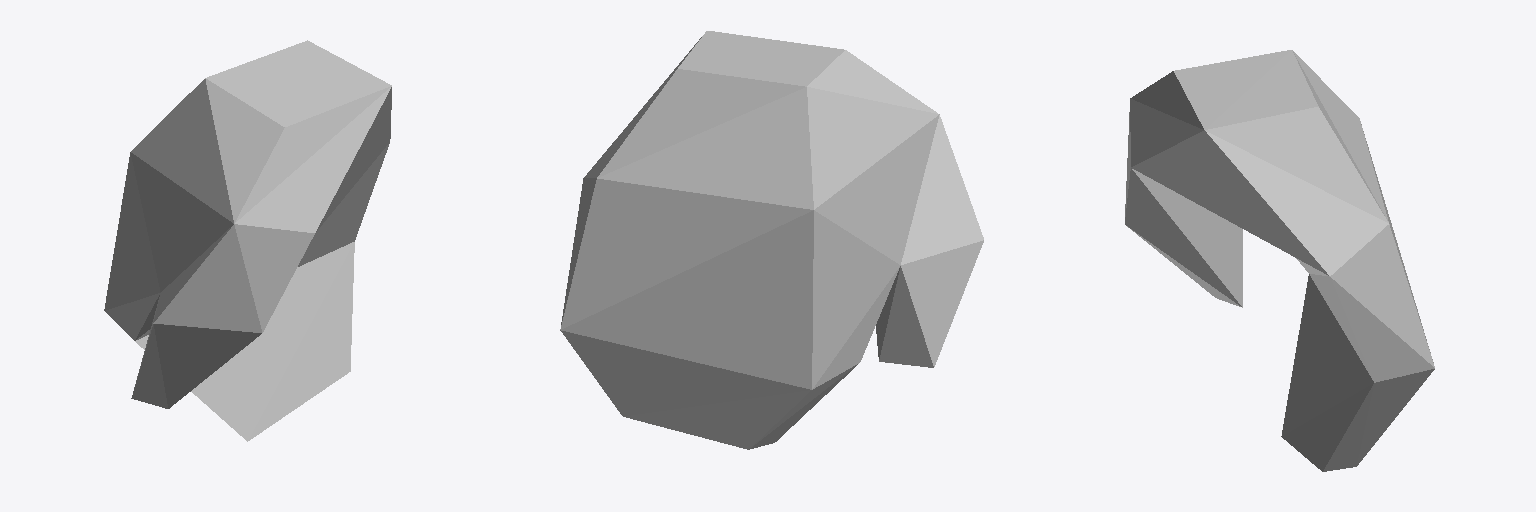
File: Mano2.obj
3 views of the same model, side by side, from view 1: azimuth 30°, elevation 25°; view 2: azimuth 150°, elevation 25°; view 3: azimuth 270°, elevation 25° (orthographic).
Parts seen in each view (by area): view 1: Mano2:polySurface11polySurface10polySurface7polySurface4polySurf; view 2: Mano2:polySurface11polySurface10polySurface7polySurface4polySurf; view 3: Mano2:polySurface11polySurface10polySurface7polySurface4polySurf.
Boxes of the visible parts, box(x1,y1,x2,y2) form: Mano2:polySurface11polySurface10polySurface7polySurface4polySurf: box(104, 40, 391, 441); Mano2:polySurface11polySurface10polySurface7polySurface4polySurf: box(560, 31, 983, 449); Mano2:polySurface11polySurface10polySurface7polySurface4polySurf: box(1125, 50, 1434, 471).
Size of the model in its own units: 0.209 by 0.2311 by 0.1763.